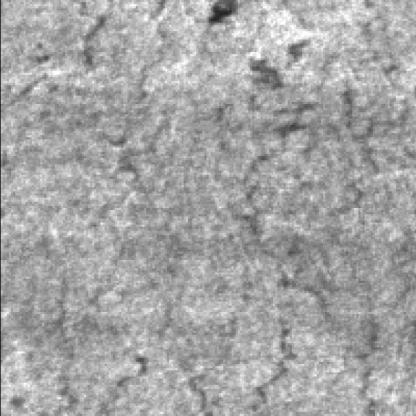crazing: (268, 39, 409, 416), (56, 93, 216, 416), (185, 97, 328, 416), (79, 2, 173, 154)
